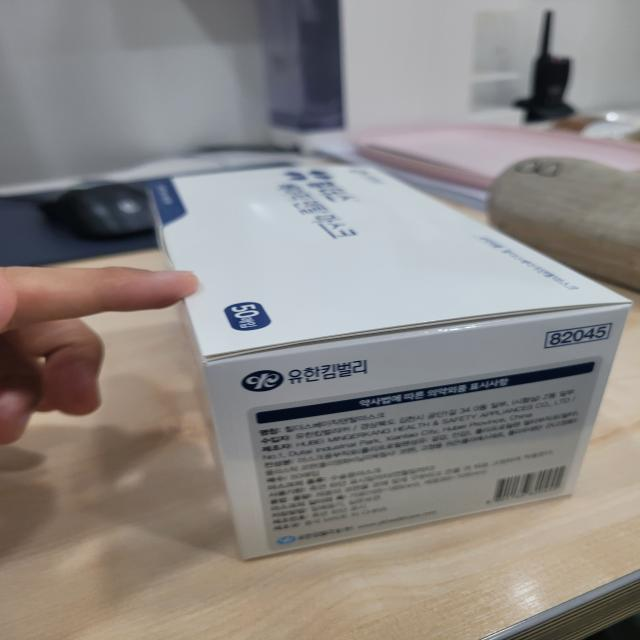mask: (110, 150, 640, 570)
